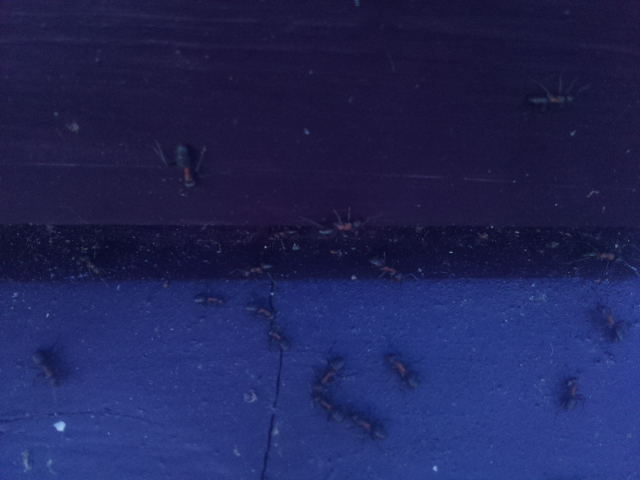ant: (23, 341, 71, 390), (338, 402, 391, 446), (380, 346, 424, 393), (170, 136, 201, 193), (361, 253, 410, 285), (596, 299, 624, 350), (317, 348, 349, 389), (558, 372, 581, 415), (268, 324, 289, 355), (244, 302, 271, 319)
